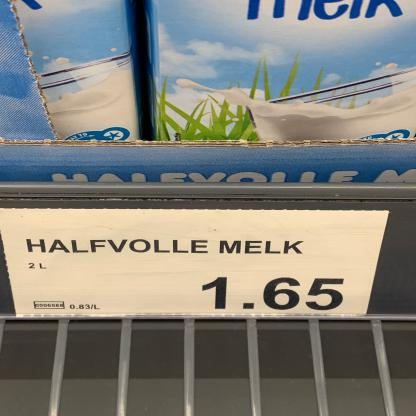prtg: (1, 208, 391, 318)
